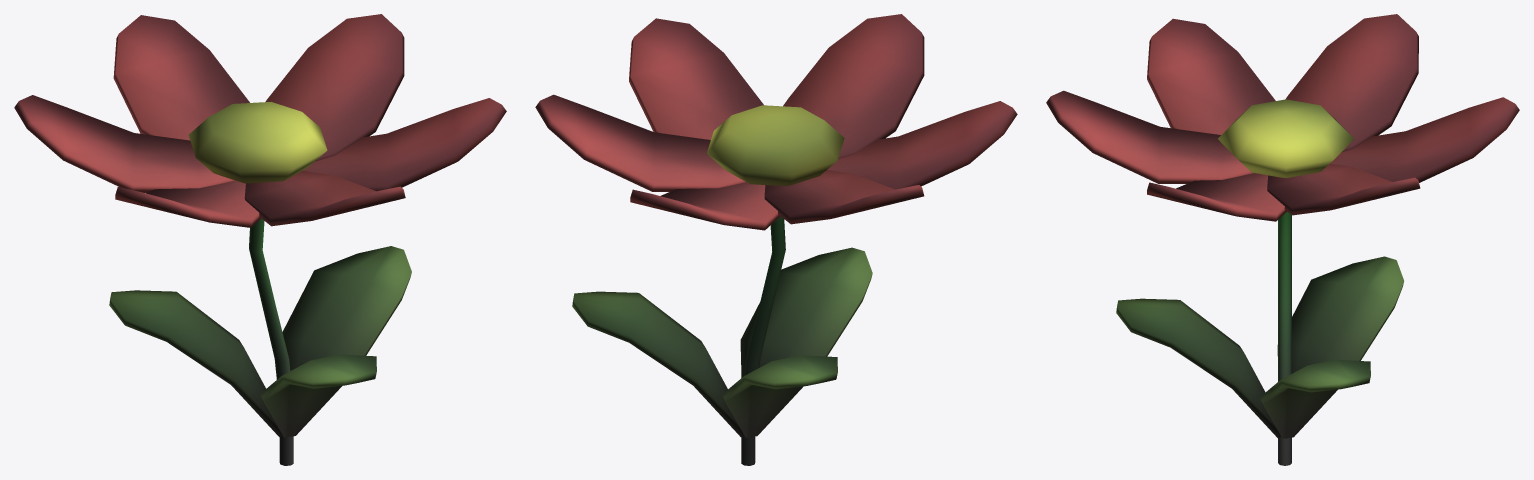
File: flower.fbx
The picture shows the model from 3 angles, left to right: view 1: azimuth 30°, elevation 25°; view 2: azimuth 150°, elevation 25°; view 3: azimuth 270°, elevation 25°; orthographic projection. The views are drawn at different scales.
Visible parts, largest first — view 1: Cylinder001; view 2: Cylinder001; view 3: Cylinder001.
Part boxes in pixels (<box>): Cylinder001: <box>14,14,506,465</box>; Cylinder001: <box>535,14,1017,465</box>; Cylinder001: <box>1046,14,1519,465</box>.
Size of the model in its own units: 194 by 181 by 220.
Materials: 1 (1 with a texture image).
